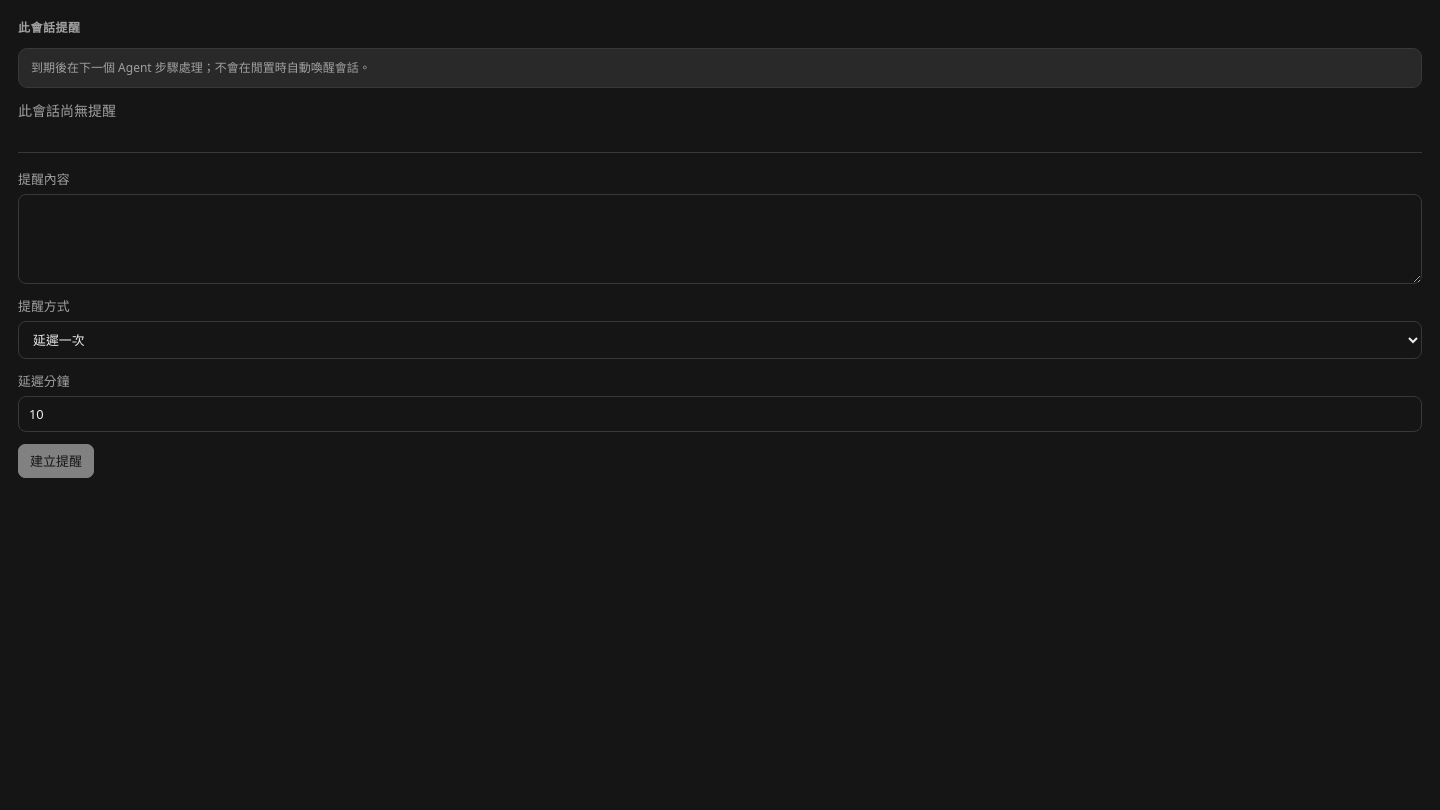
locks further writes until a failed mutation has a successful read-back
The image size is (1440, 810).
Expected: the text "此會話尚無提醒" is shown, left=18, top=101, right=116, bottom=120
Step 1. Type "未確認提醒" into the text box labelled "提醒內容" → point(720, 239), box left=18, top=194, right=1422, bottom=284
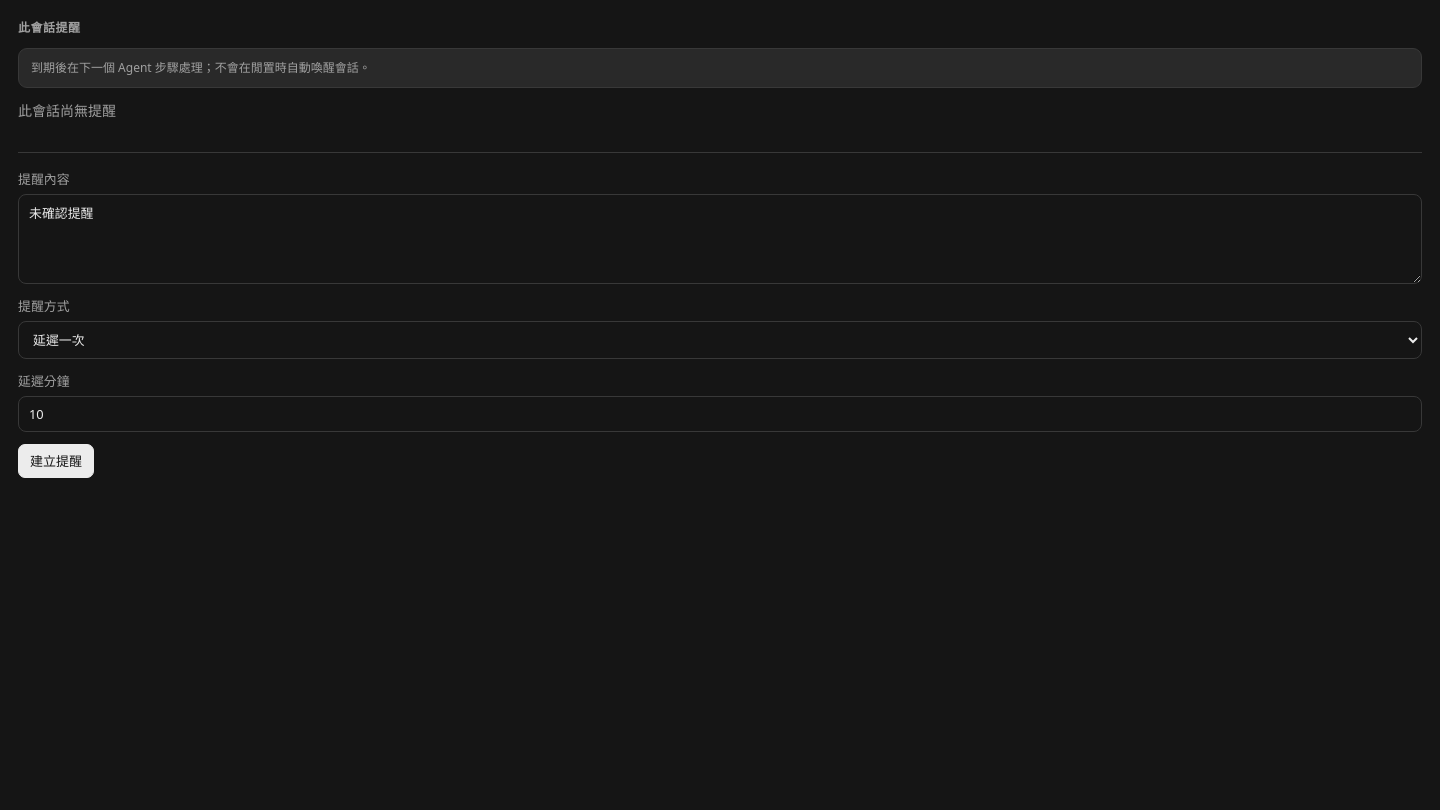
Step 2. Click the button "建立提醒" → point(56, 461), box left=18, top=444, right=94, bottom=478
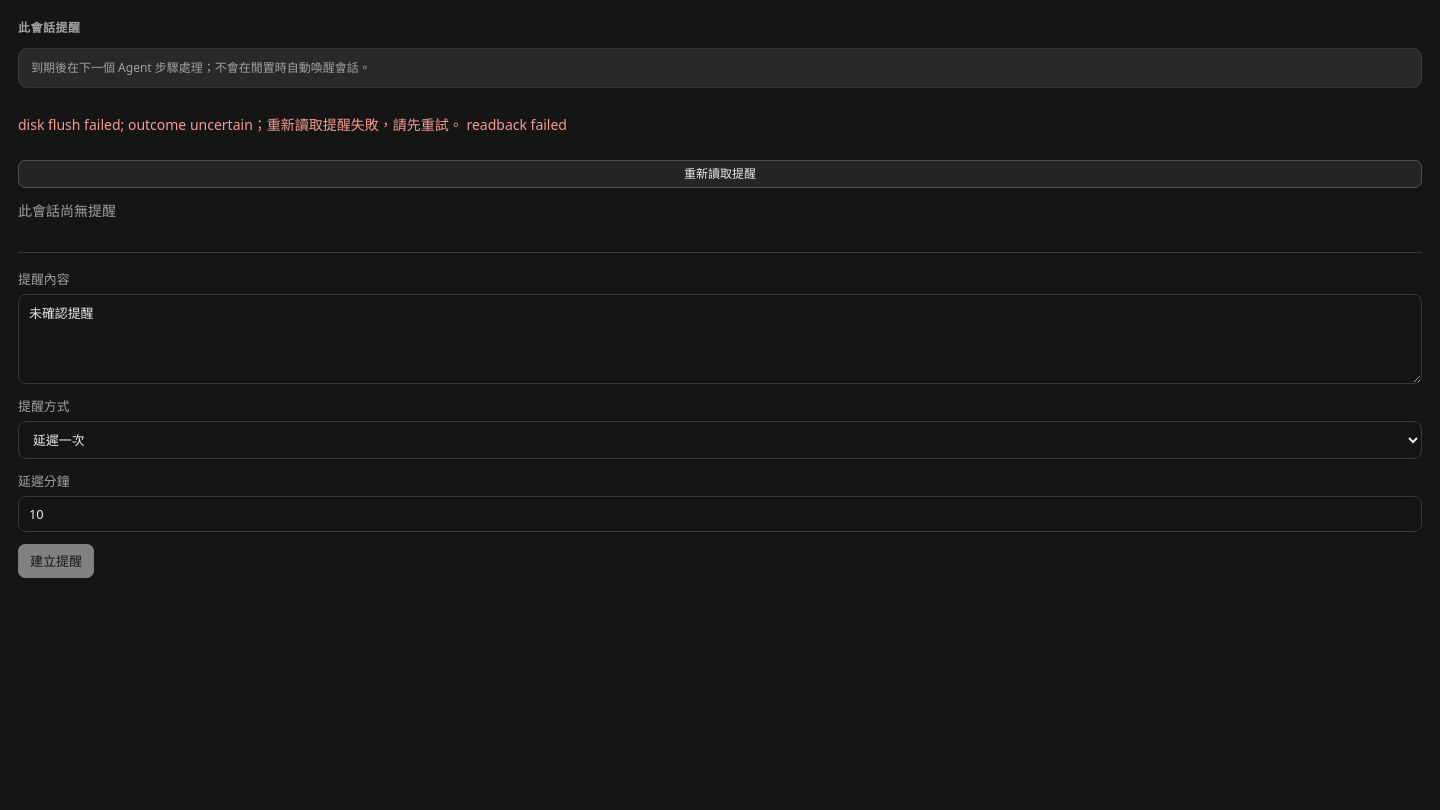
Result: the message shows "readback failed" at left=18, top=115, right=567, bottom=134
Result: the message shows "disk flush failed" at left=18, top=115, right=567, bottom=134
Result: the button "建立提醒" is disabled at left=18, top=544, right=94, bottom=578
Step 3. Click the button "重新讀取提醒" → point(720, 174), box left=18, top=160, right=1422, bottom=188
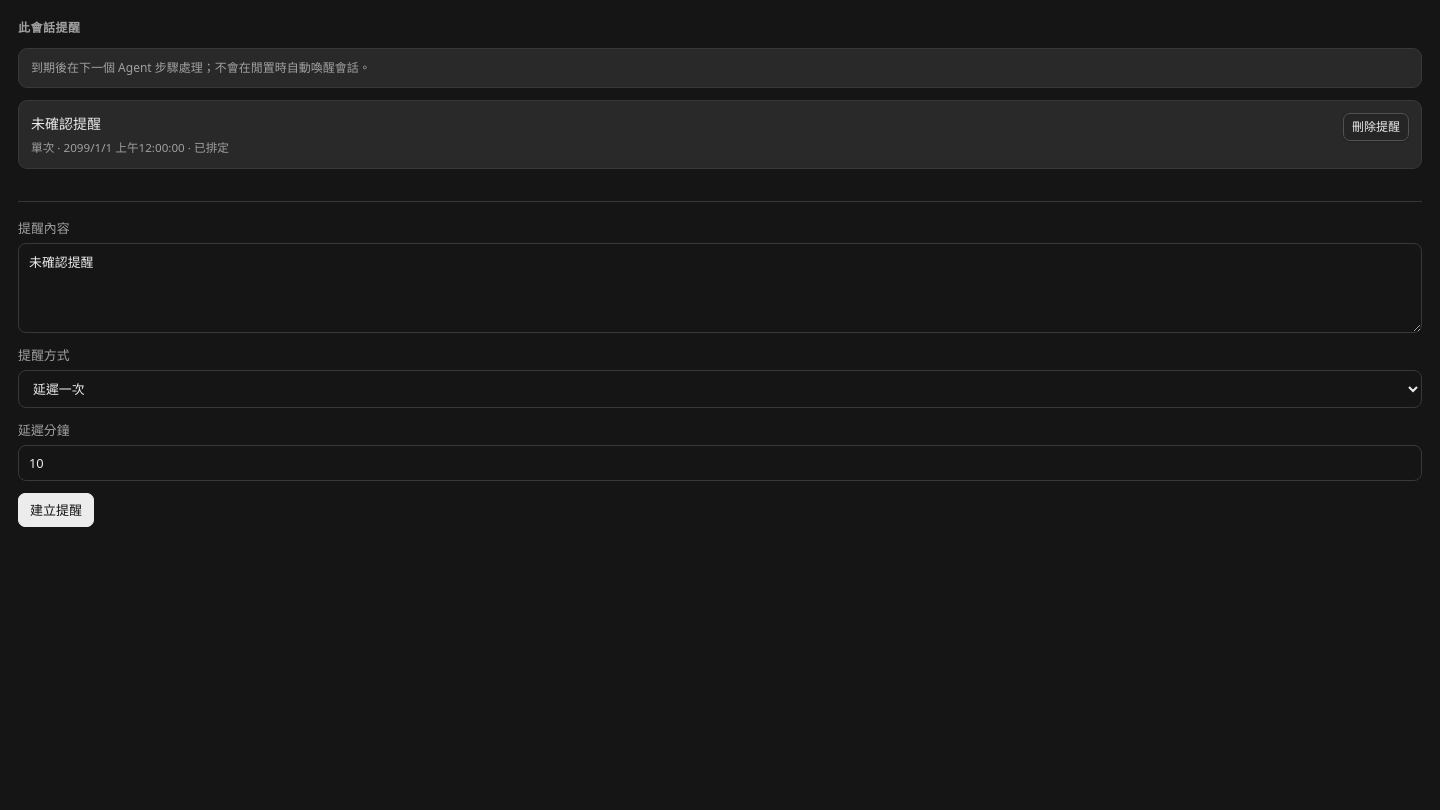
Result: the text "未確認提醒" is shown at left=31, top=114, right=101, bottom=133
Result: the button "建立提醒" is enabled at left=18, top=493, right=94, bottom=527
